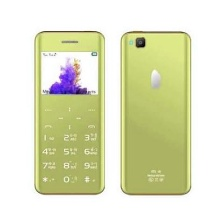phone: (28, 26, 108, 198), (118, 27, 194, 198)
